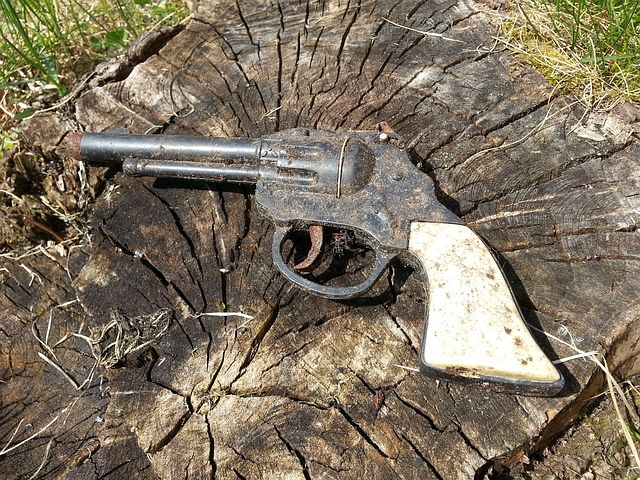gun: (70, 122, 582, 408)
